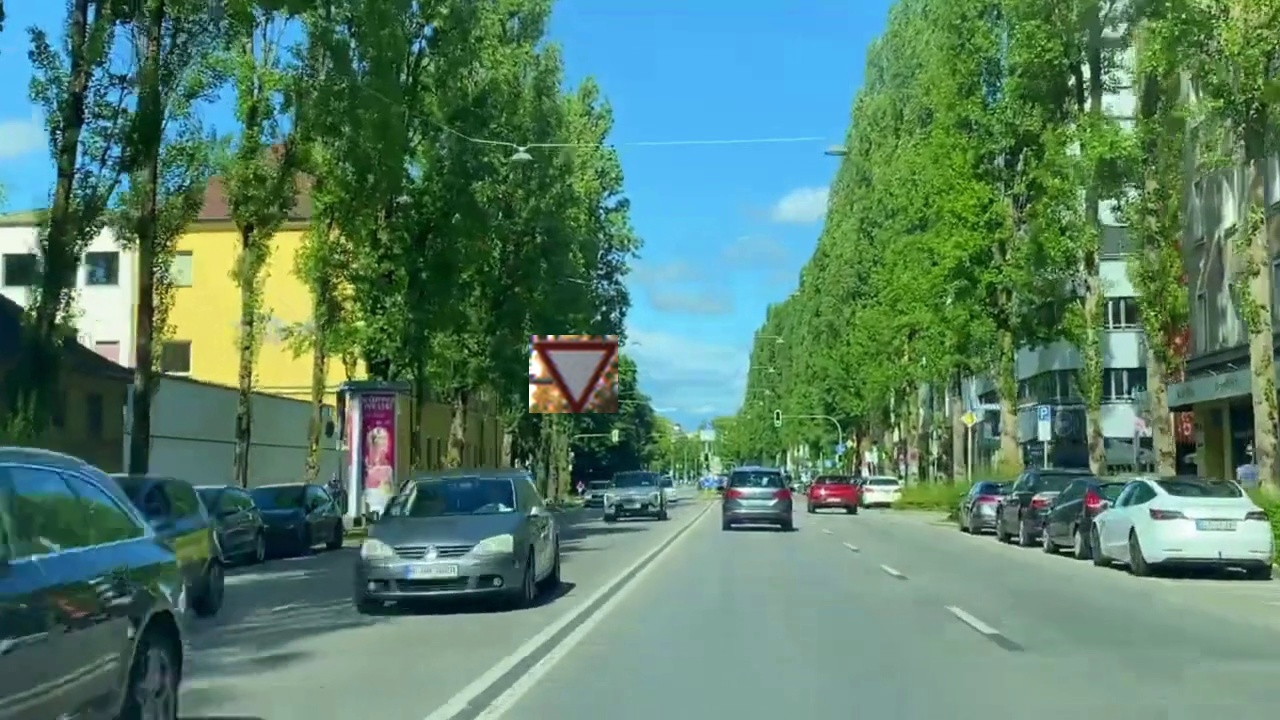Yield: (529, 335, 618, 413)
